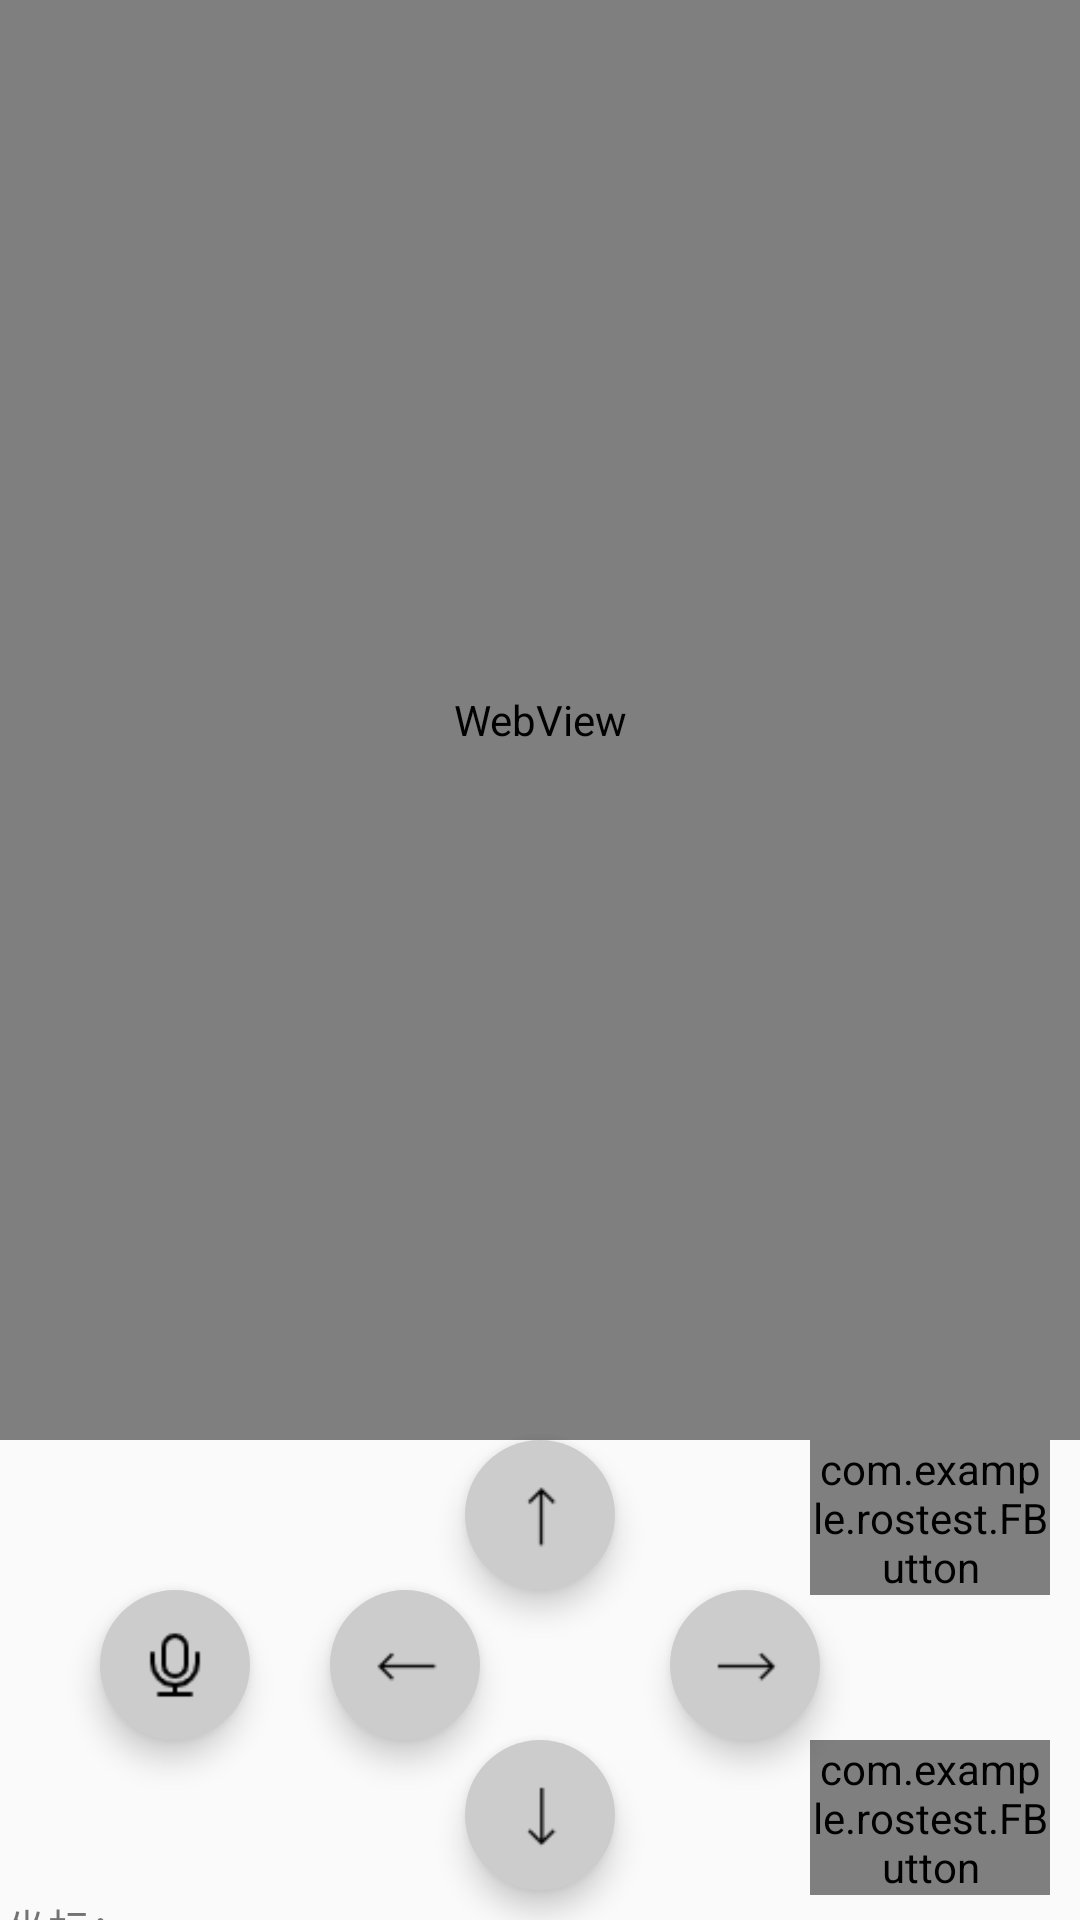

Point at icon controls on the screen. Image size 1080*1920, points as point (x, y).
jiantou xiangshang: point (540, 1515)
jiantou xiangxia: point (540, 1815)
jiantou xiangyou: point (745, 1665)
jiantou xiangzuo: point (405, 1665)
voice: point (175, 1665)
